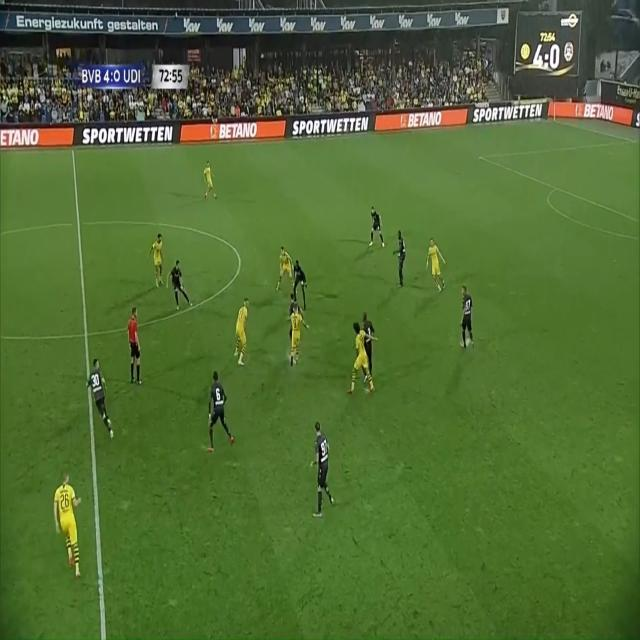player: (46, 463, 92, 582), (81, 354, 121, 442), (204, 372, 240, 460), (308, 420, 334, 528), (451, 281, 478, 355), (230, 292, 253, 370), (170, 257, 198, 321), (353, 323, 376, 396), (428, 231, 450, 296), (274, 242, 298, 299), (362, 310, 381, 375), (291, 260, 312, 316), (148, 228, 166, 292), (363, 201, 385, 253), (287, 306, 304, 370), (202, 158, 220, 206), (394, 224, 406, 289), (287, 295, 300, 341)
referee: (122, 304, 145, 393)
